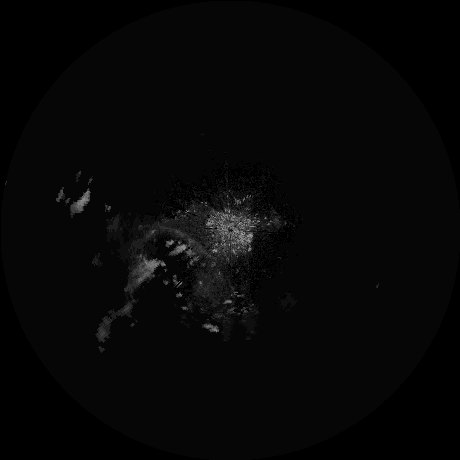frontgust: (158, 223, 212, 260)
